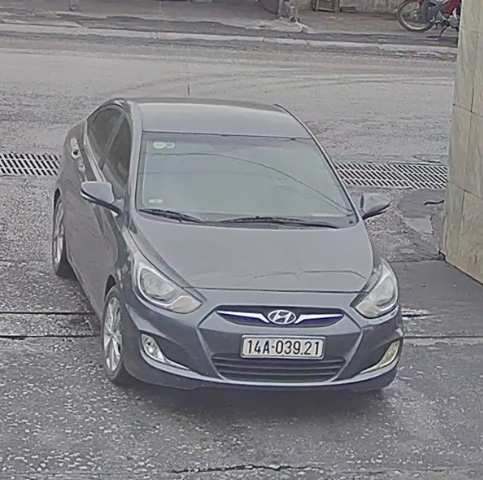vehicle plate: (236, 330, 332, 363)
